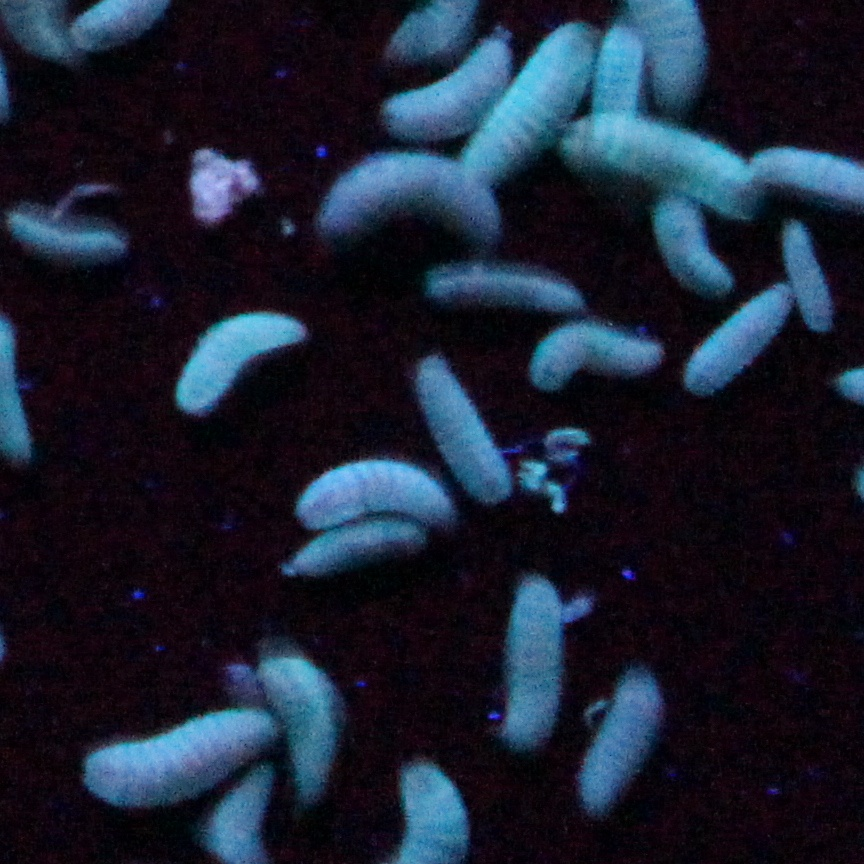larve: (451, 23, 602, 186), (573, 114, 744, 200), (178, 296, 301, 409), (417, 355, 504, 501), (247, 654, 336, 795), (689, 266, 785, 396), (78, 724, 275, 785), (315, 163, 496, 225), (400, 33, 502, 140), (290, 466, 447, 525), (596, 666, 656, 815), (507, 571, 554, 756), (648, 186, 730, 289), (533, 321, 661, 386), (7, 202, 125, 264), (418, 266, 586, 309), (274, 528, 433, 570), (773, 217, 830, 328)
